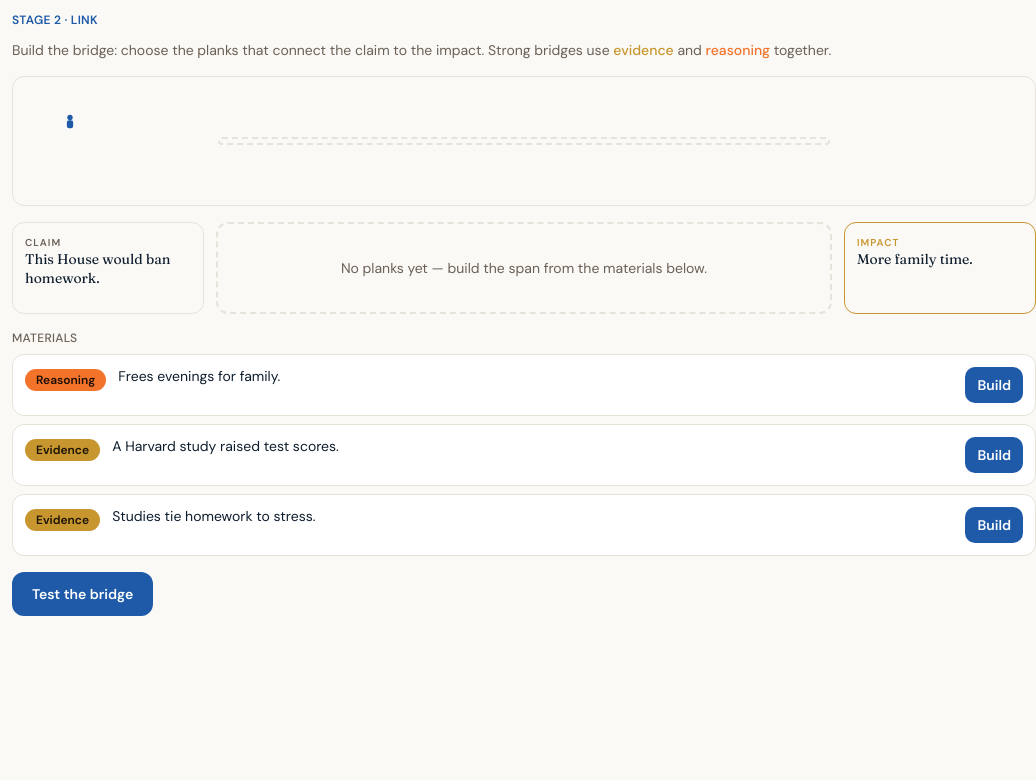
Test: LinkCard › names the missing material when only evidence is built
What coordinates should you click on to do the following:
click the button "Build" in the row of "Studies tie homework to stress."
I would click on:
 (994, 525)
Its box is [966,507,1023,543].
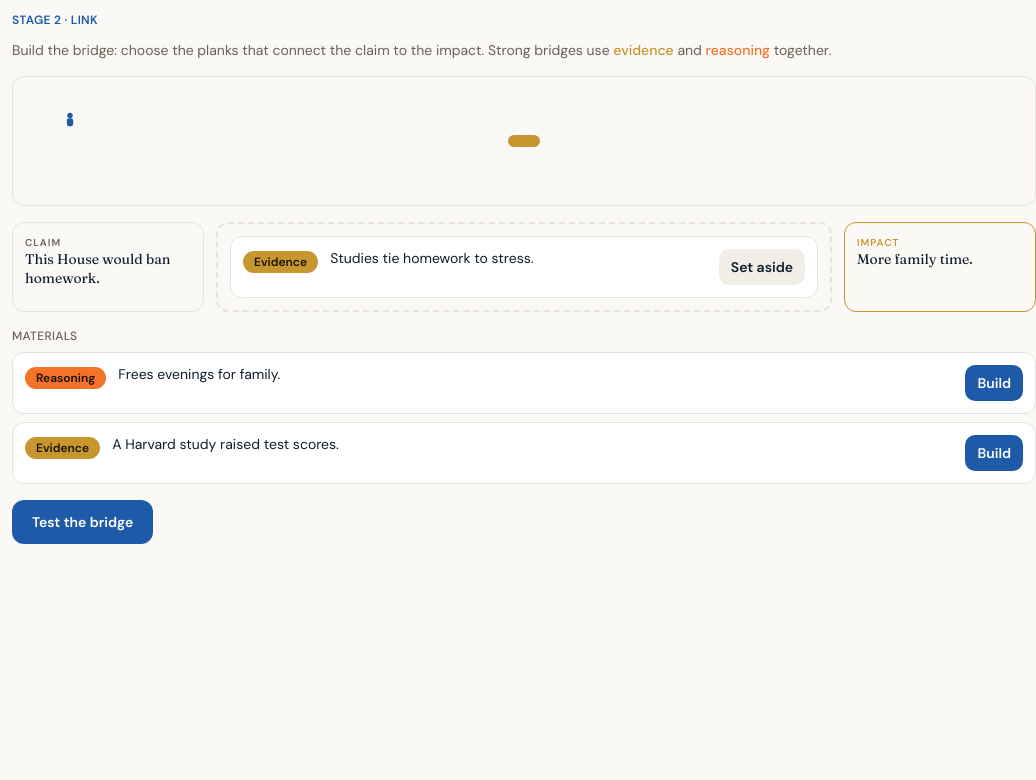
What coordinates should you click on to do the following:
click the button "Test the bridge"
I would click on:
 (83, 522)
Its box is [12,500,153,544].
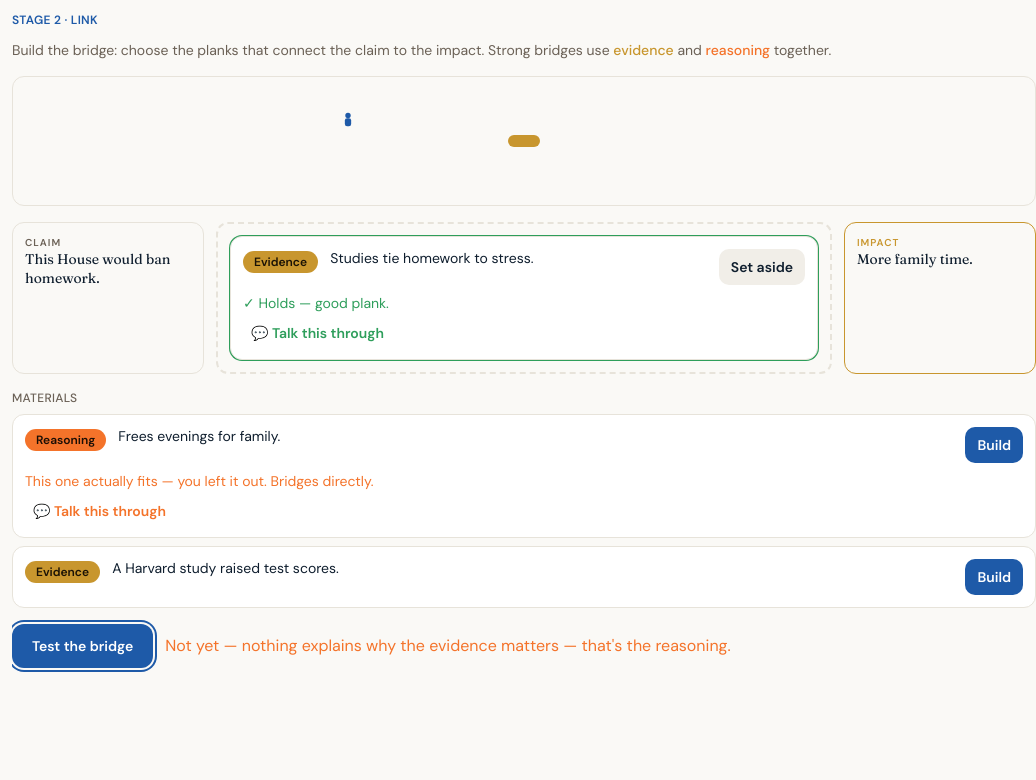
Now the text with test id "bridge-summary" shows "reasoning", box [165,635,731,656]
